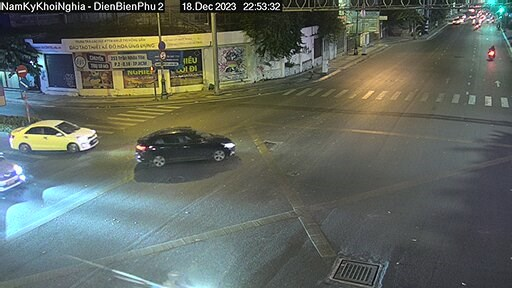car: (134, 124, 240, 170), (11, 116, 101, 158)
